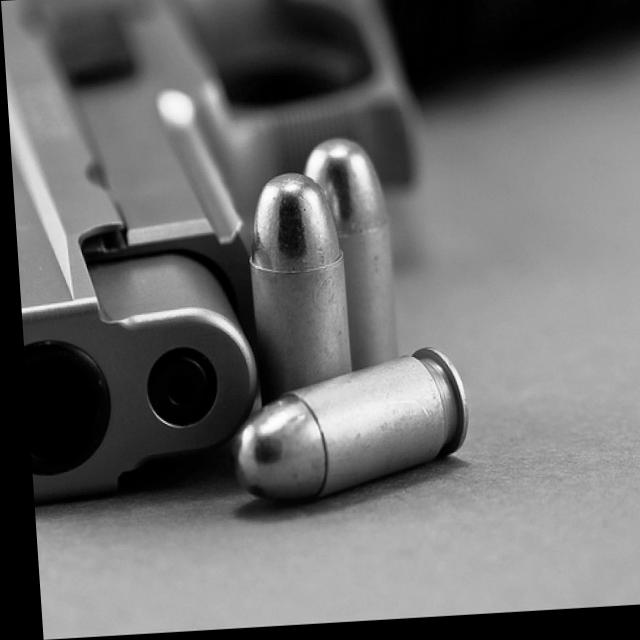handgun: (0, 0, 438, 504)
